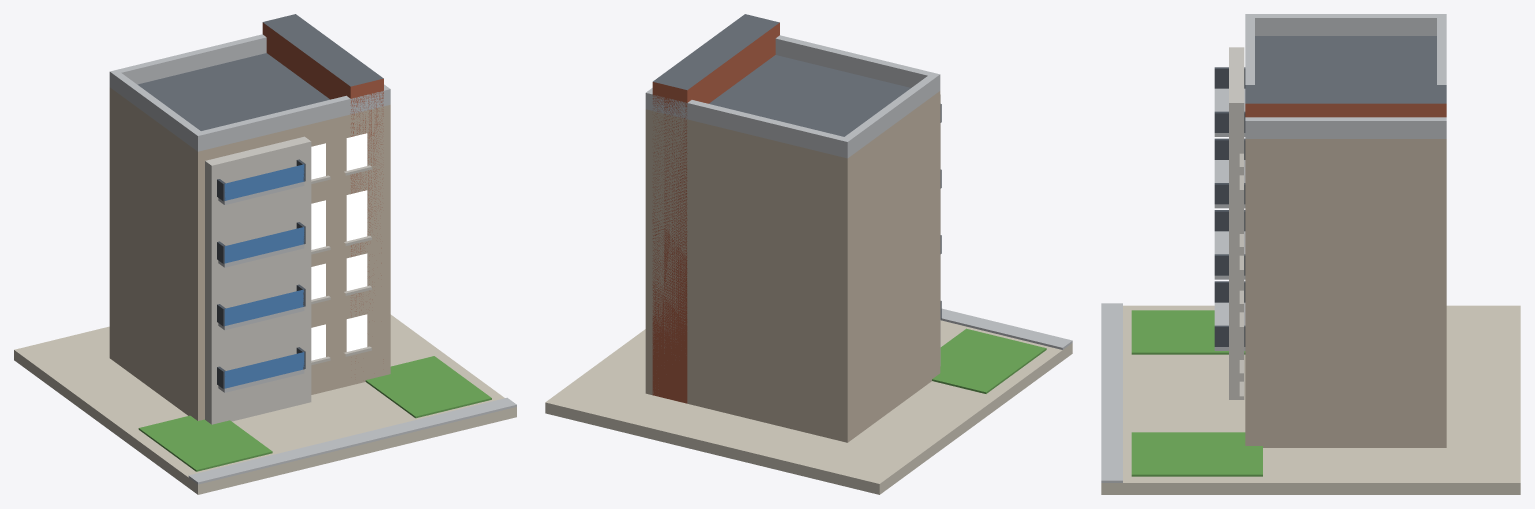
3 renders of one model, left to right at view 1: azimuth 30°, elevation 25°; view 2: azimuth 150°, elevation 25°; view 3: azimuth 270°, elevation 25°, orthographic. The views are drawn at different scales.
Visible parts, largest first — view 1: b08_v2_lod1; view 2: b08_v2_lod1; view 3: b08_v2_lod1.
Part boxes in pixels (x1,y1,x2,y2): b08_v2_lod1: (14,14,516,494); b08_v2_lod1: (545,14,1072,494); b08_v2_lod1: (1101,14,1520,494).
Bounding box in the file's own units: 0.96 × 0.89 × 0.96.
